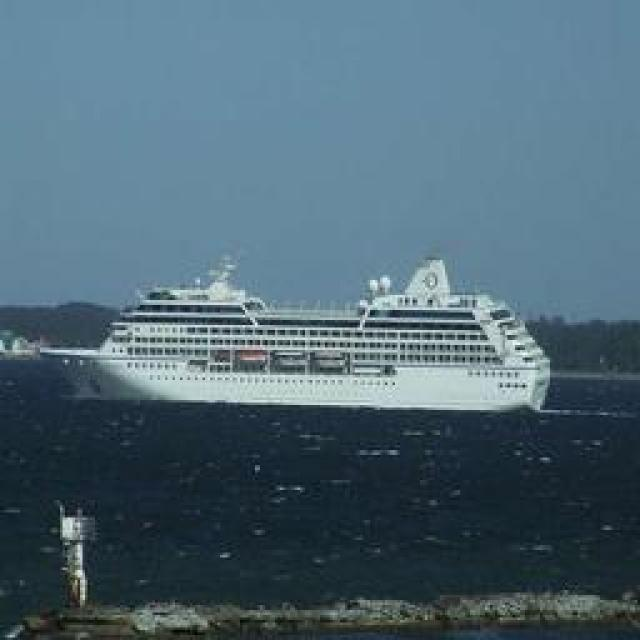ship2: (39, 240, 553, 413)
